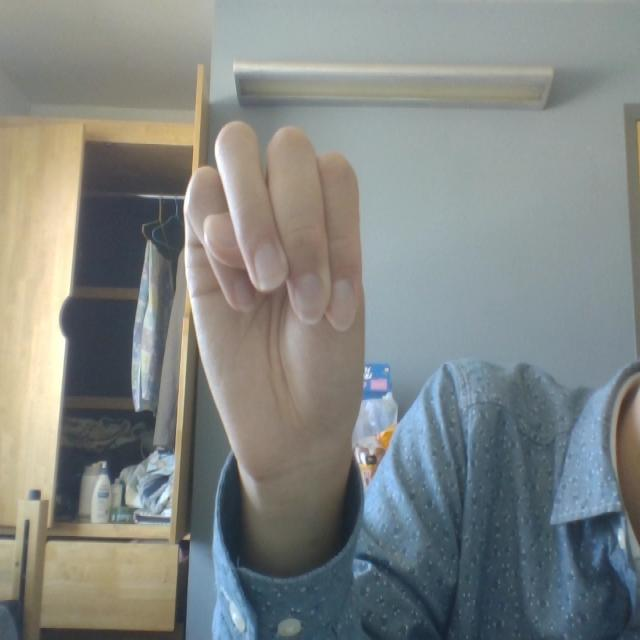M: (150, 83, 405, 530)
